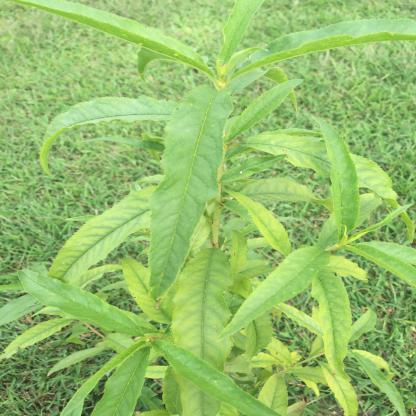Peach leaf: (137, 87, 235, 304), (13, 2, 220, 86), (204, 244, 330, 352), (44, 180, 157, 299), (27, 93, 182, 176), (228, 14, 416, 75), (177, 234, 236, 416), (152, 340, 293, 416), (18, 265, 147, 340), (315, 113, 357, 246), (309, 270, 357, 373)
